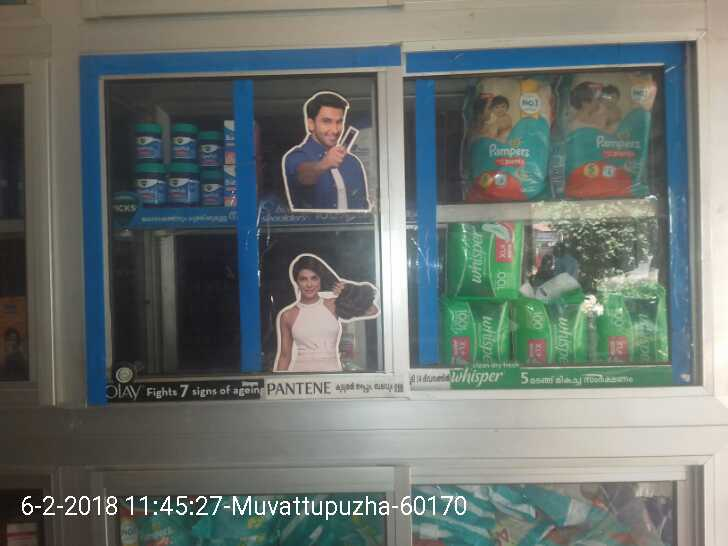vicks: (133, 115, 241, 207)
